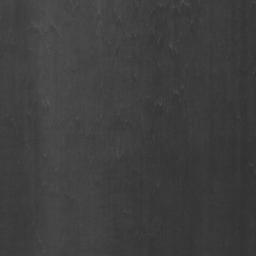Silk spot: (0, 0, 256, 256), (223, 216, 256, 256), (0, 38, 17, 59)
